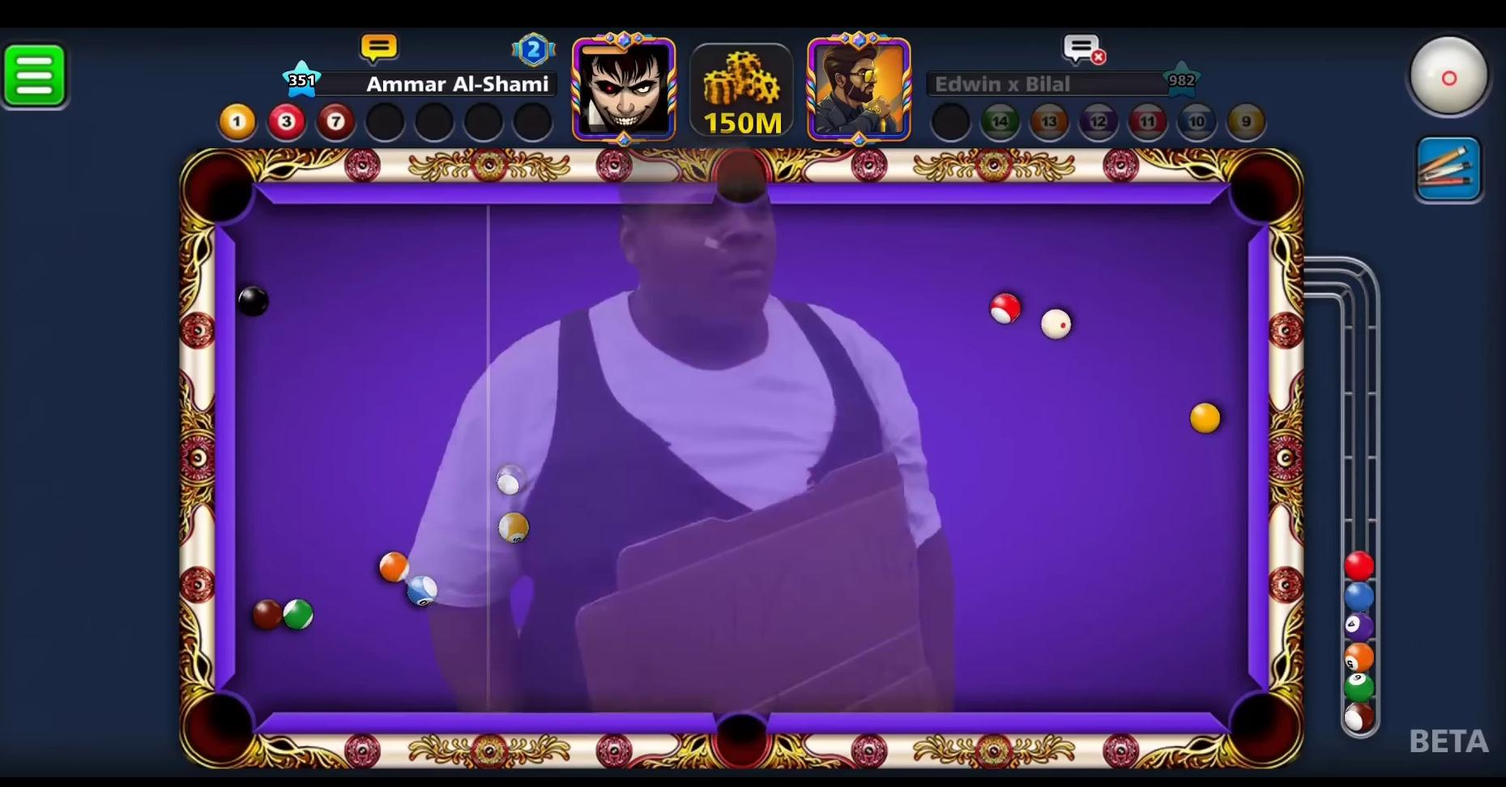Ball: (484, 505, 541, 550), (482, 458, 535, 500), (225, 282, 279, 323), (243, 593, 291, 636), (395, 574, 443, 617), (981, 290, 1028, 327), (1185, 398, 1226, 436)
Hole: (169, 679, 270, 774), (1213, 677, 1309, 775), (173, 140, 267, 234), (1219, 142, 1303, 238), (702, 697, 781, 777), (701, 142, 777, 219)
Spin: (1402, 28, 1504, 130)
White: (1033, 304, 1082, 342)
